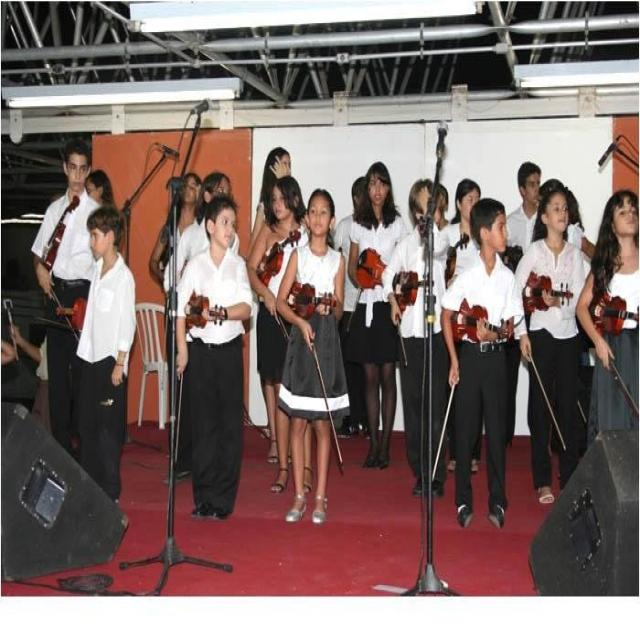violin: (40, 194, 82, 273), (448, 296, 511, 341), (258, 228, 301, 288), (287, 276, 340, 320), (521, 269, 577, 309), (585, 292, 638, 332), (185, 288, 229, 334), (392, 264, 432, 312), (354, 252, 389, 289), (53, 295, 91, 325), (442, 237, 472, 272)
